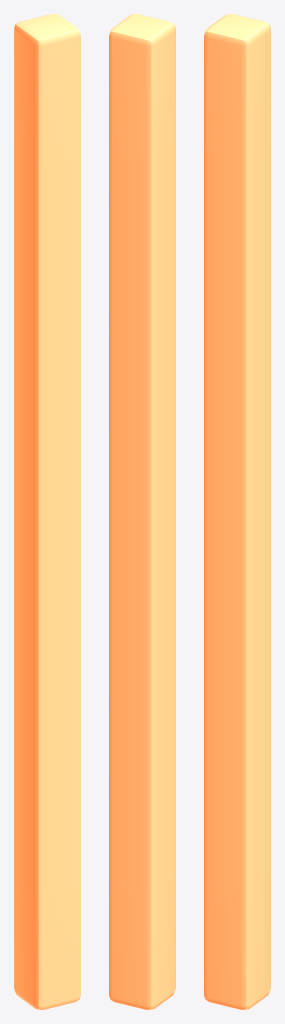
The model's file is SM_Trim_Stern.fbx.
The picture shows the model from 3 angles, left to right: view 1: azimuth 30°, elevation 25°; view 2: azimuth 150°, elevation 25°; view 3: azimuth 330°, elevation 25°; orthographic projection.
Visible parts, largest first — view 1: SM_Trim_Stern; view 2: SM_Trim_Stern; view 3: SM_Trim_Stern.
Boxes of the visible parts, left/top/right/bottom form: SM_Trim_Stern: left=14, top=14, right=80, bottom=1009; SM_Trim_Stern: left=109, top=14, right=175, bottom=1009; SM_Trim_Stern: left=204, top=14, right=270, bottom=1009.
Bounding box in the file's own units: 25 × 25 × 500.
